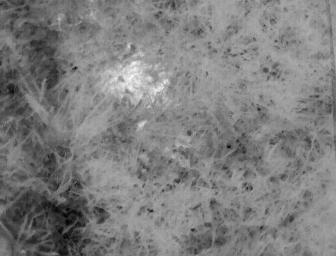landmine: (101, 63, 152, 98)
